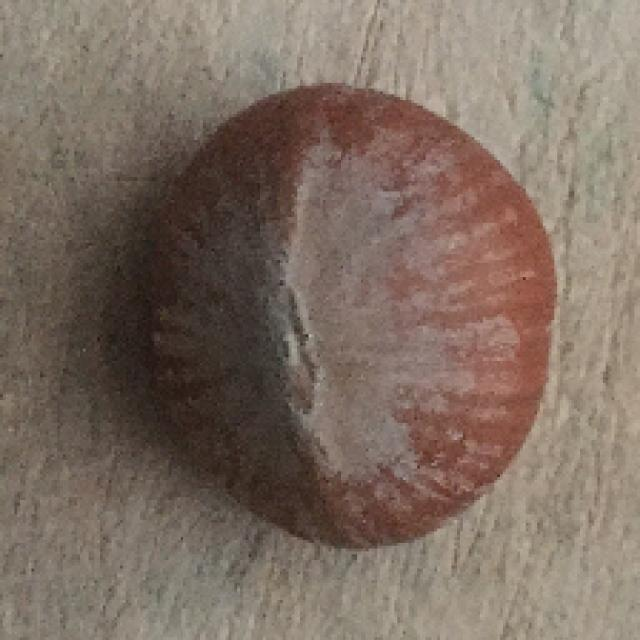qualityHazelnut: (143, 80, 560, 573)
